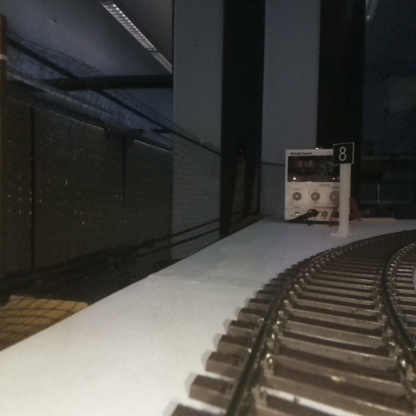black-info-8: (333, 143, 352, 236)
